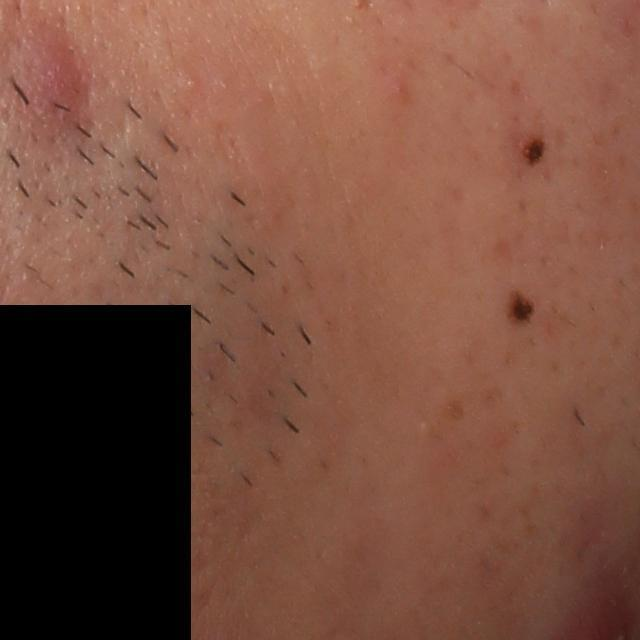nevus: (506, 288, 538, 330), (520, 132, 547, 164)
papule: (7, 28, 86, 123)
